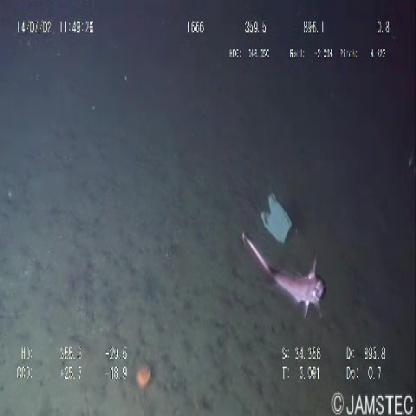Bio: (233, 222, 328, 323)
Rác: (257, 188, 299, 250)
